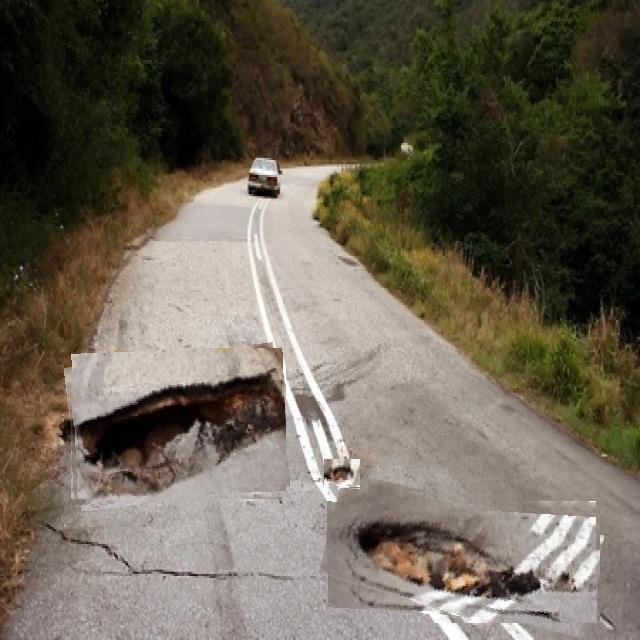Pothole: (323, 486, 600, 623), (67, 348, 286, 505), (324, 460, 360, 488)
